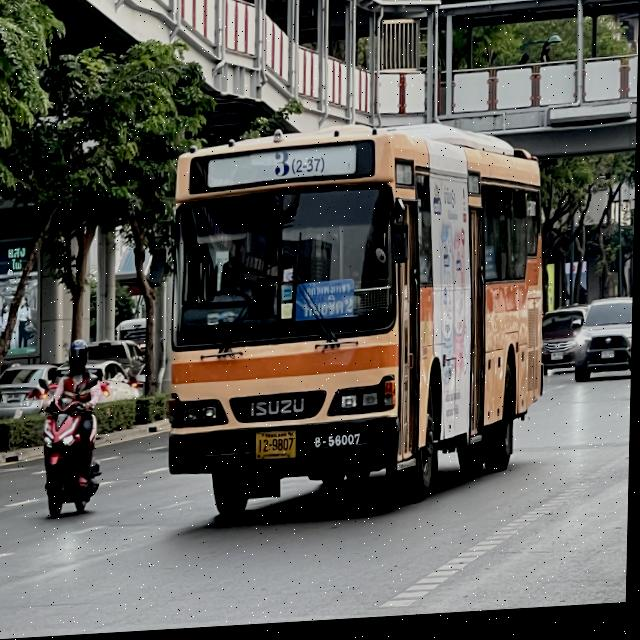BMTA-bus: (154, 110, 553, 522)
Bus Line Number: (266, 150, 329, 182)
Bus Side Number: (315, 437, 366, 453)
Destination Sign: (297, 285, 356, 324)
